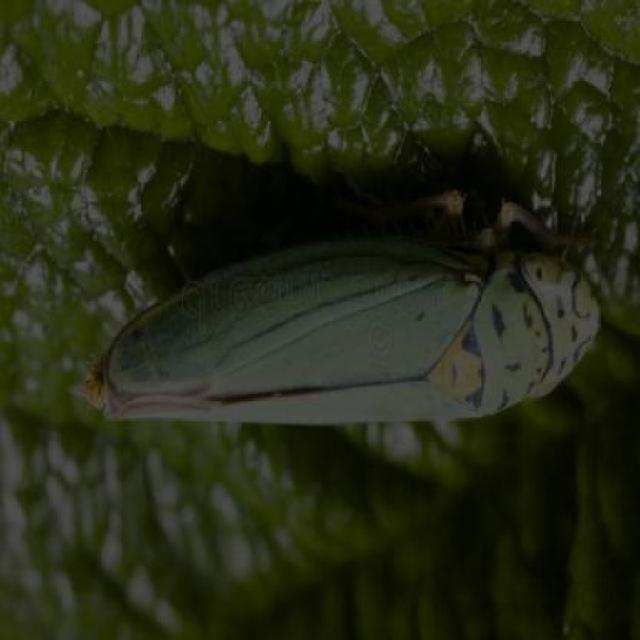green-leafhopper: (100, 226, 603, 431)
